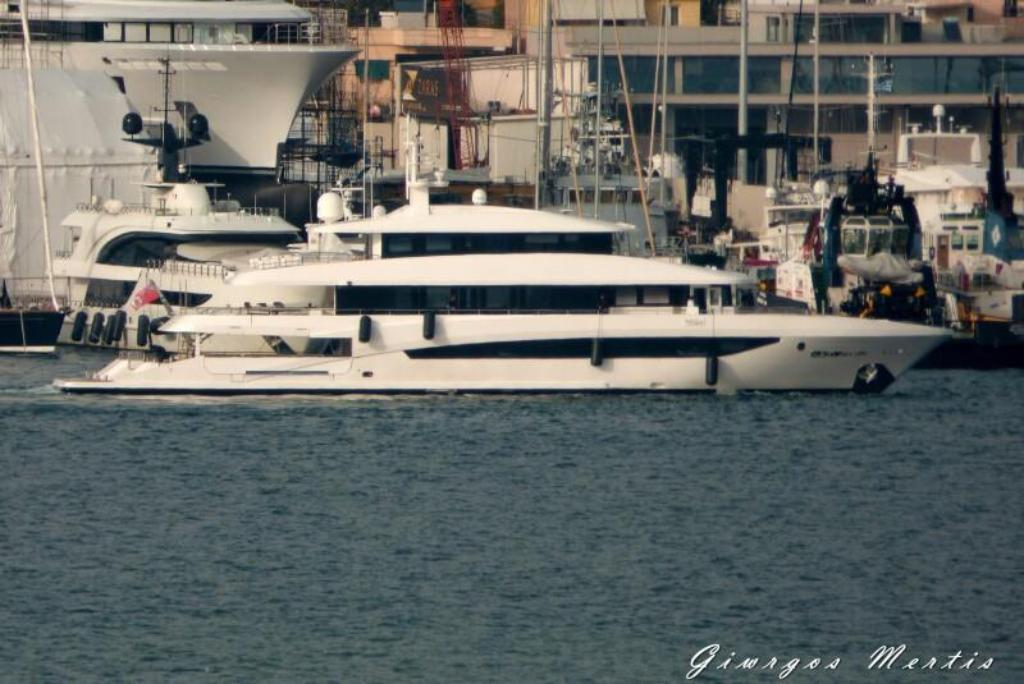PassengerShip: (46, 174, 958, 405), (34, 97, 322, 364)
